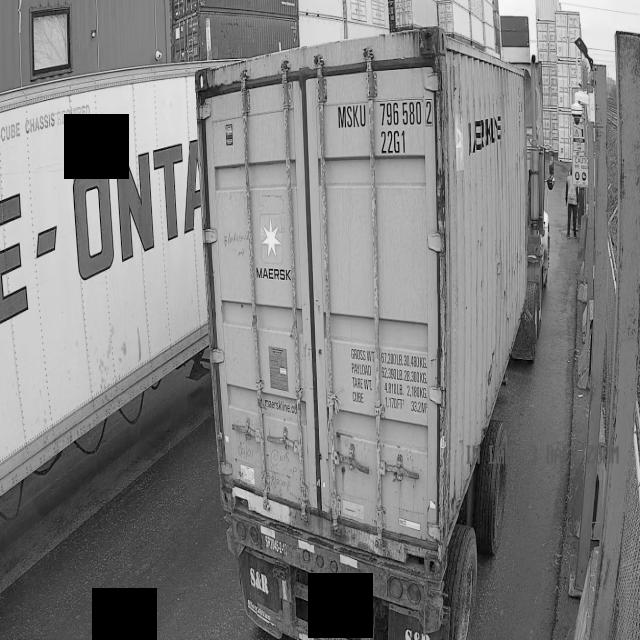container_company_logo: (255, 207, 292, 285)
container_number: (335, 96, 442, 158)
driver: (565, 168, 578, 237)
license_plate: (326, 579, 361, 613)
other_container_info: (346, 344, 432, 425)
truck_with_container: (196, 27, 554, 640), (0, 65, 206, 496)
